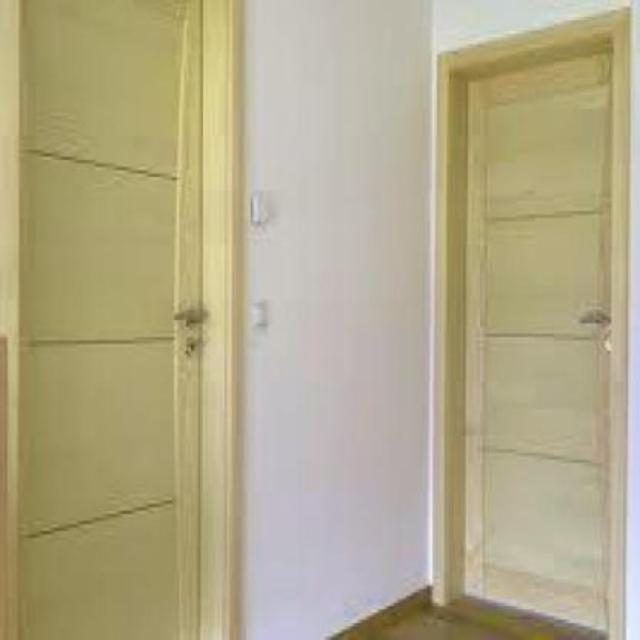door: (4, 0, 233, 639), (446, 44, 622, 636)
